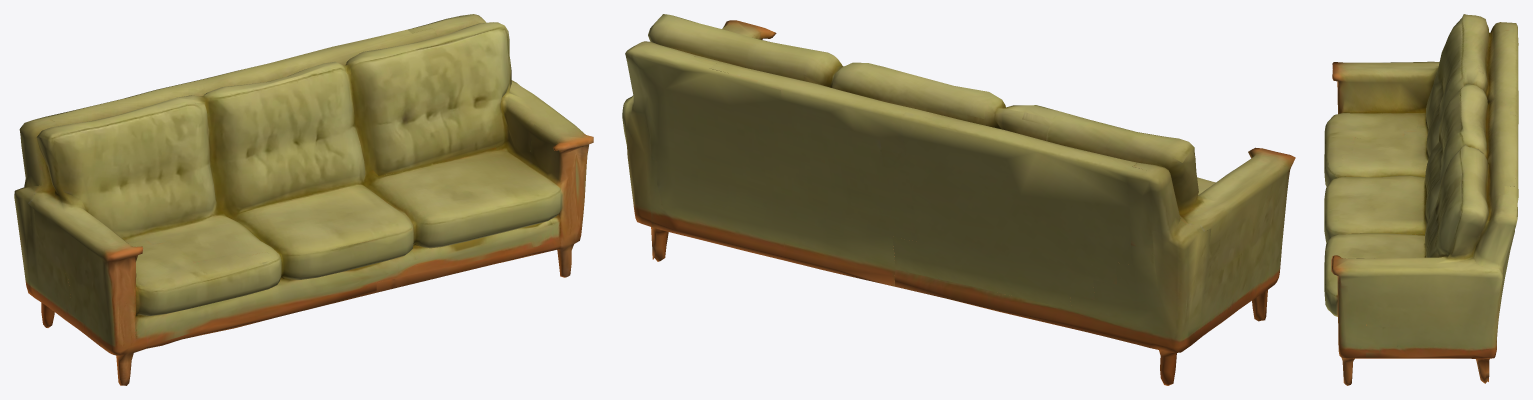
Rendered from sofa.glb.
The picture shows the model from 3 angles, left to right: view 1: azimuth 30°, elevation 25°; view 2: azimuth 150°, elevation 25°; view 3: azimuth 270°, elevation 25°; orthographic projection. The views are drawn at different scales.
Parts seen in each view (by area): view 1: sofa; view 2: sofa; view 3: sofa.
Part boxes in pixels (x1,y1,x2,y2): sofa: (14,14,593,385); sofa: (622,14,1295,385); sofa: (1324,14,1518,385).
Size of the model in its own units: 2.2 by 0.8799 by 0.86.
Materials: 1 (1 with a texture image).
